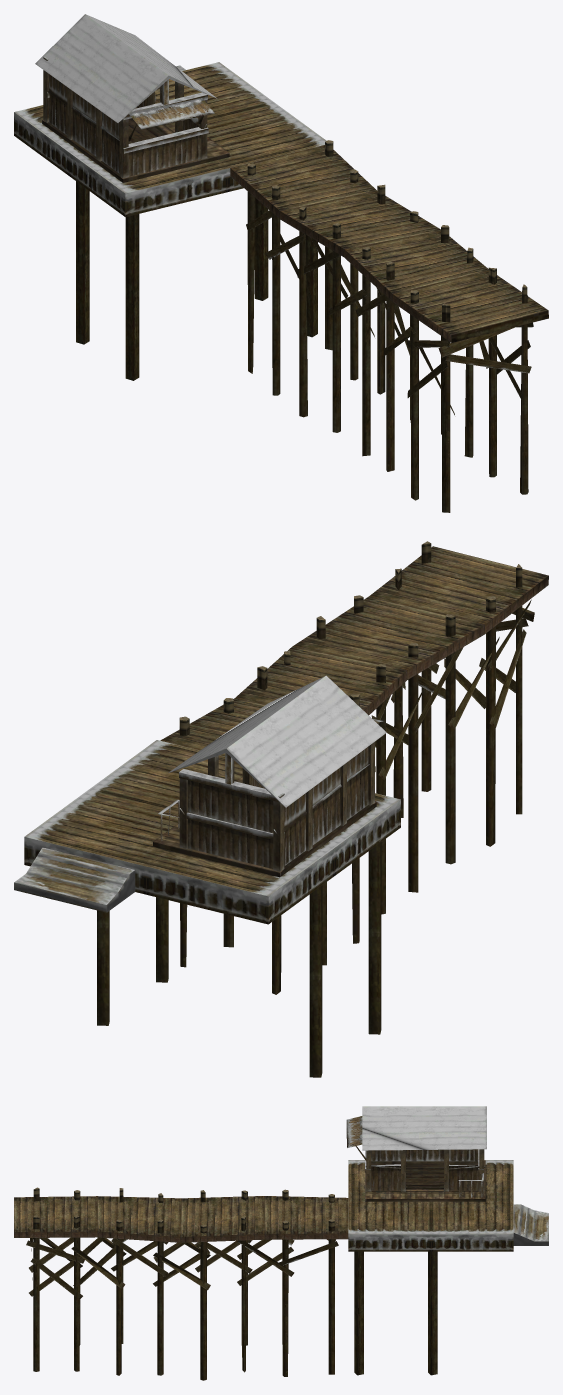
Rendered from nsm-general_obj_01_lod_01.fbx.
3 views of the same model, one above another, from view 1: azimuth 30°, elevation 25°; view 2: azimuth 150°, elevation 25°; view 3: azimuth 270°, elevation 25° (orthographic). The views are drawn at different scales.
Parts seen in each view (by area): view 1: Box02; view 2: Box02; view 3: Box02.
Boxes of the visible parts, x1=… form: Box02: x1=14, y1=14, x2=548, y2=512; Box02: x1=14, y1=541, x2=548, y2=1077; Box02: x1=14, y1=1106, x2=548, y2=1380.
Bounding box in the file's own units: 10.52 × 14.71 × 32.01.
